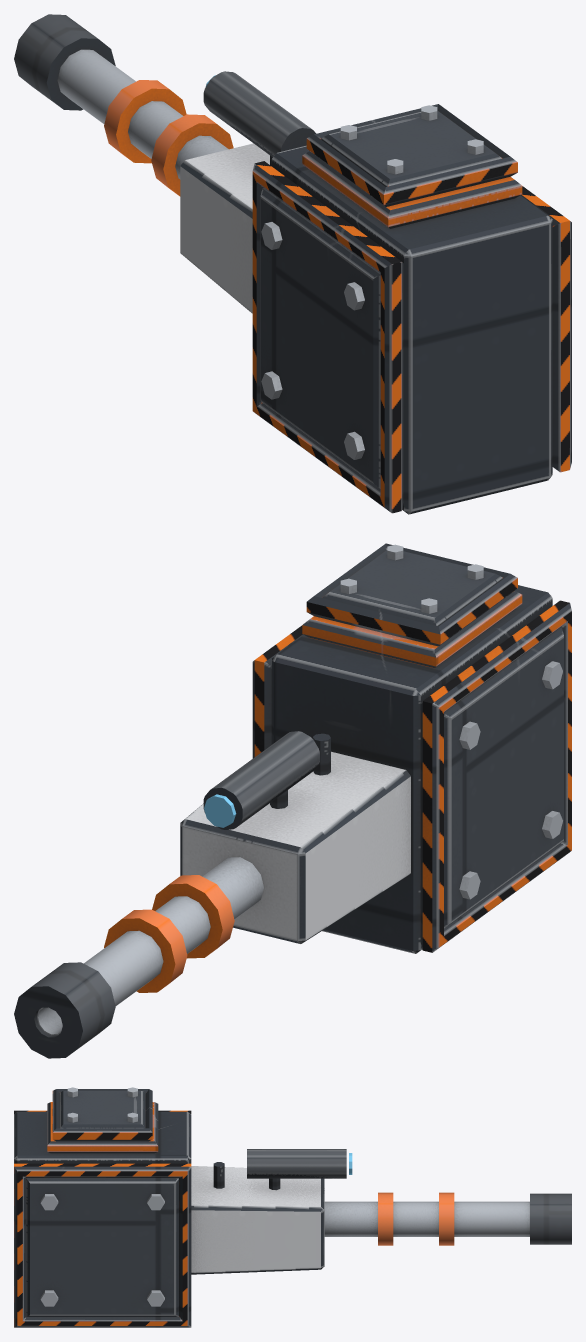
The model's file is laser_ligero_t2.fbx.
The picture shows the model from 3 angles, top to bottom: view 1: azimuth 30°, elevation 25°; view 2: azimuth 150°, elevation 25°; view 3: azimuth 270°, elevation 25°; orthographic projection. The views are drawn at different scales.
Visible parts, largest first — view 1: laser_ligero_t2; view 2: laser_ligero_t2, laser_ligero_t2_neon2; view 3: laser_ligero_t2.
Boxes of the visible parts, x1,y1,x2,y2 form: laser_ligero_t2: (14,14,571,514); laser_ligero_t2: (14,543,571,1058); laser_ligero_t2_neon2: (204,794,236,827); laser_ligero_t2: (14,1087,571,1327).
Size of the model in its own units: 1.38 by 2.01 by 5.03.
